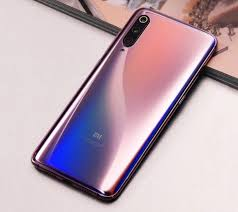mi: (27, 4, 219, 202)
